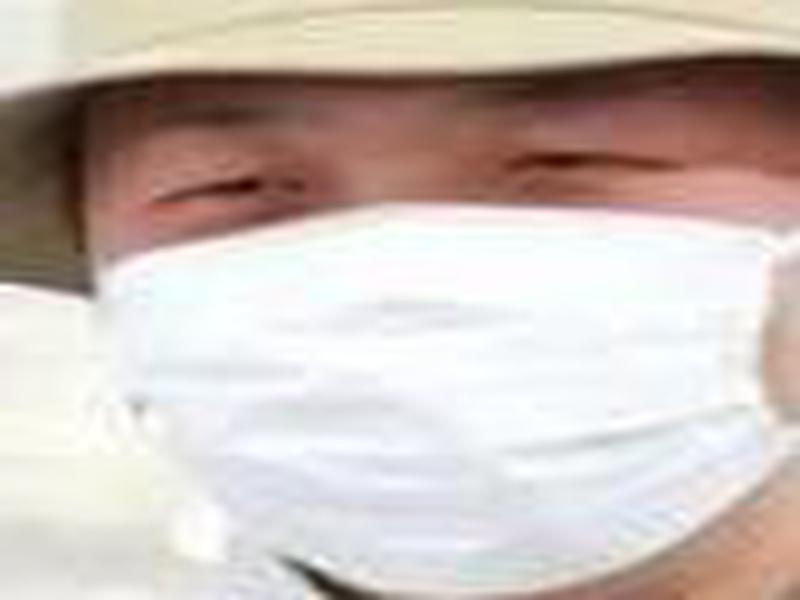with_mask: (69, 57, 798, 600)
